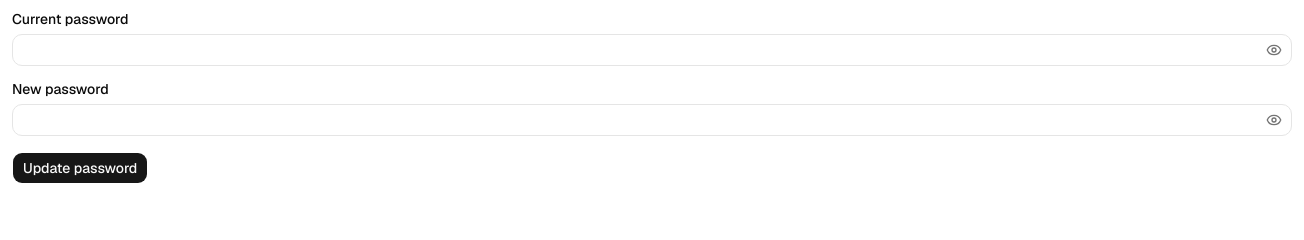
Test: ChangePasswordForm › shows a success message and clears fields after successful submit
Type "oldpass123" into the password field labelled "Current password" at (652, 50), box [12,34,1292,66]
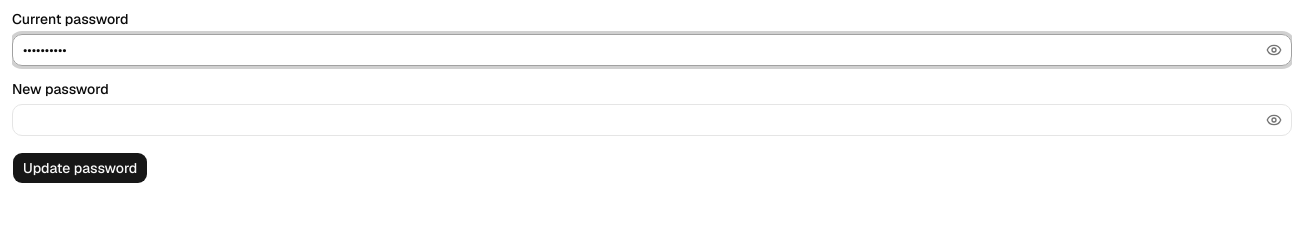
Type "newpass456" into the password field labelled "New password" at (652, 120), box [12,104,1292,136]
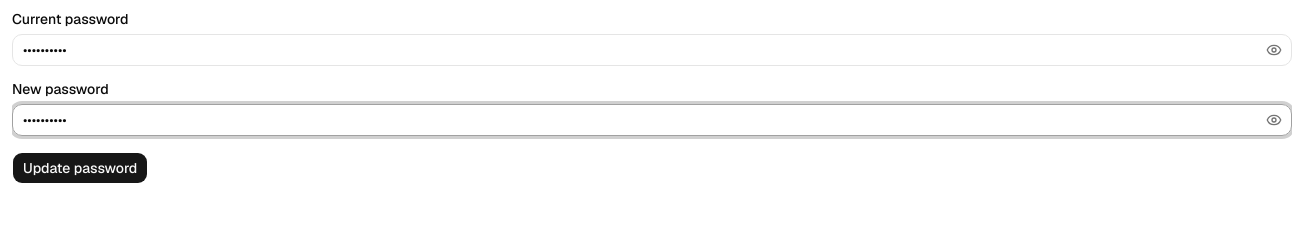
Click the button "Update password" at (80, 168), box [12,152,148,184]
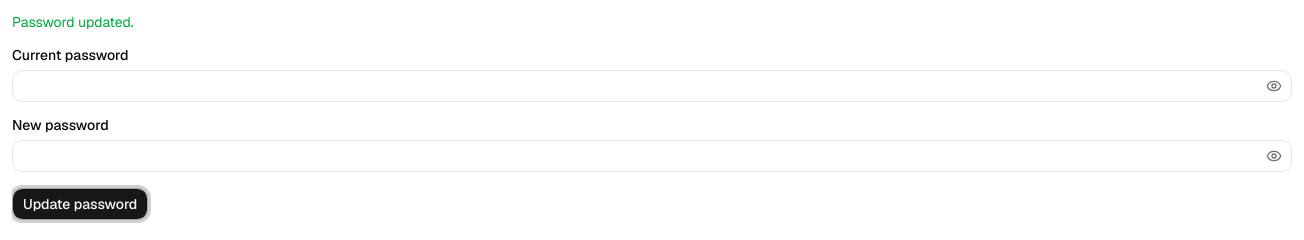
Check: the text "Password updated." is shown, box [12,13,134,31]
Check: the password field labelled "Current password" is empty, box [12,70,1292,102]
Check: the password field labelled "New password" is empty, box [12,140,1292,172]
